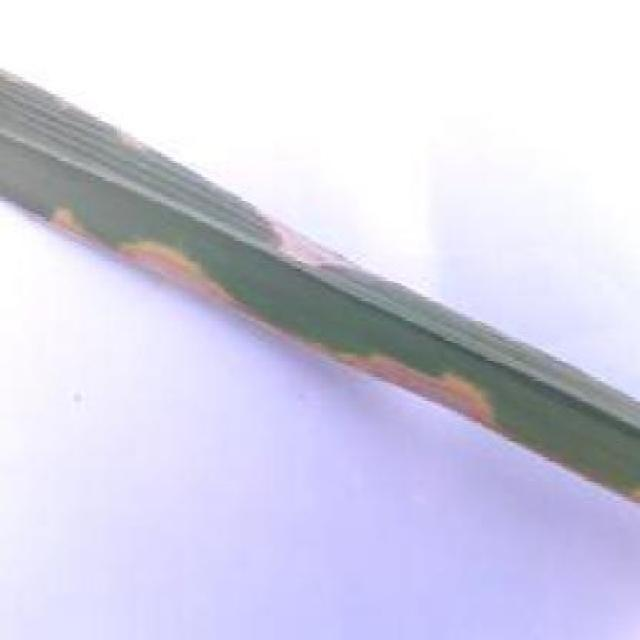Brown_Spot: (20, 179, 257, 333), (314, 309, 529, 446), (535, 278, 636, 536), (68, 53, 266, 176), (241, 167, 408, 296), (0, 0, 95, 103)
